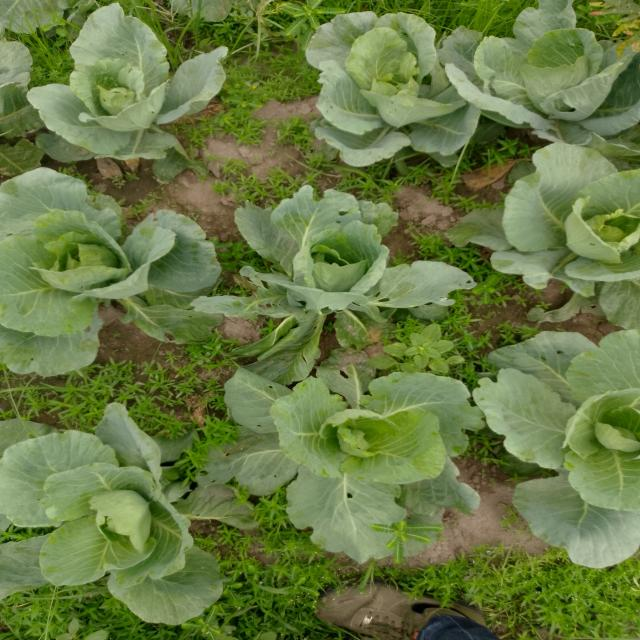Cabbage: (0, 398, 202, 640), (196, 179, 442, 361), (236, 372, 467, 563), (469, 317, 640, 568), (256, 3, 510, 171), (4, 184, 206, 374), (25, 11, 233, 171), (466, 124, 640, 299), (444, 0, 640, 122)
